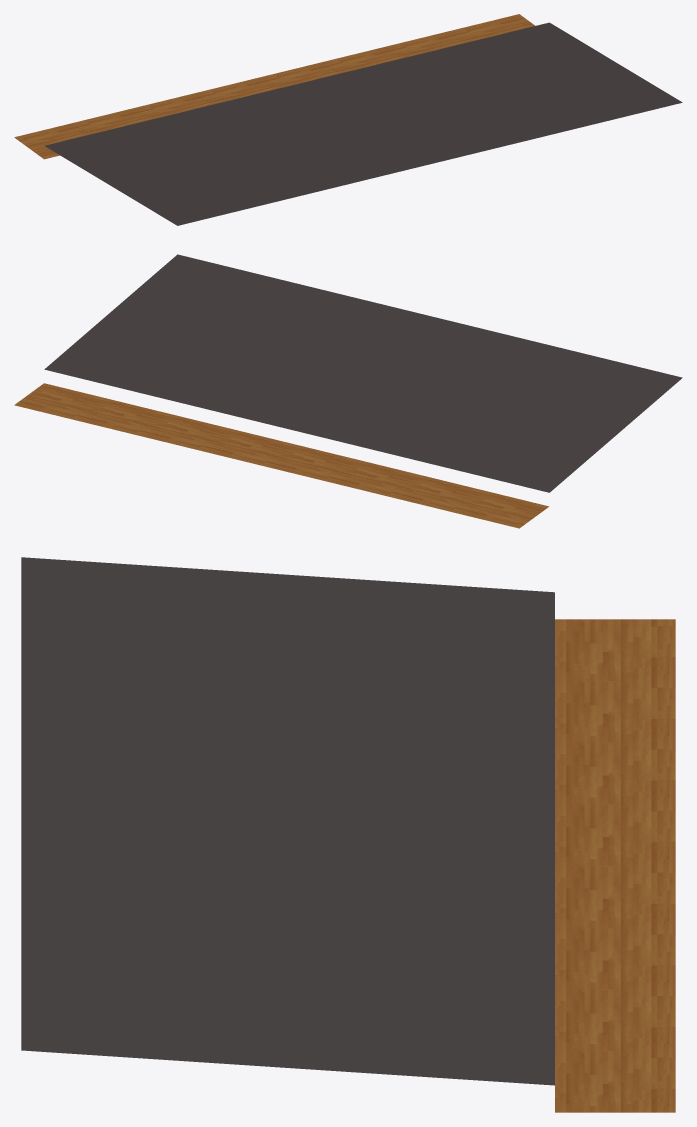
Rendered from ArcheryField_Ground.fbx.
3 views of the same model, one above another, from view 1: azimuth 30°, elevation 25°; view 2: azimuth 150°, elevation 25°; view 3: azimuth 270°, elevation 25° (orthographic). The views are drawn at different scales.
Visible parts, largest first — view 1: ArcheryField_Ground; view 2: ArcheryField_Ground; view 3: ArcheryField_Ground.
Boxes of the visible parts, x1=… form: ArcheryField_Ground: x1=14, y1=14, x2=682, y2=225; ArcheryField_Ground: x1=14, y1=254, x2=682, y2=528; ArcheryField_Ground: x1=21, y1=557, x2=675, y2=1112.
Bounding box in the file's own units: 1944 × 114 × 1090.
